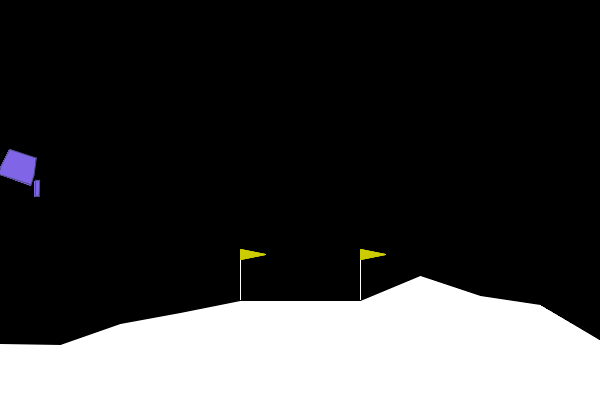lander: (0, 143, 52, 199)
